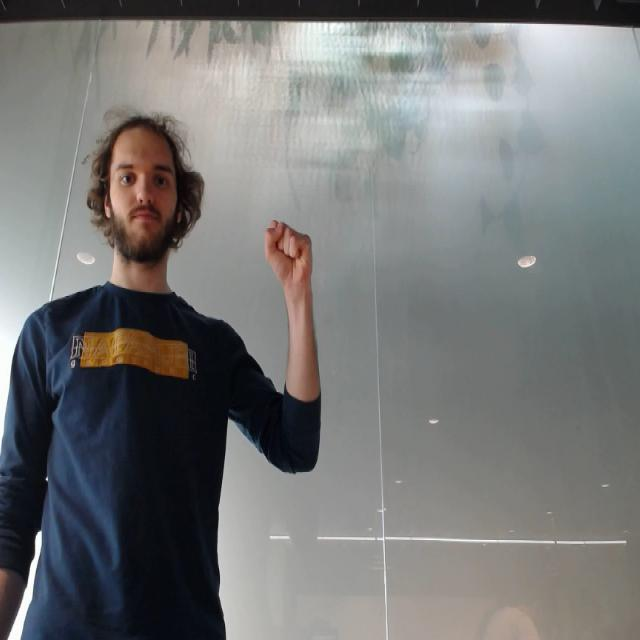stop: (261, 215, 316, 292)
